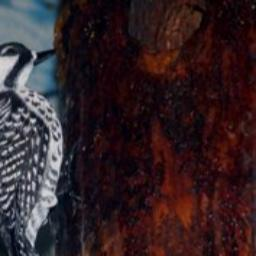Woodpecker: (0, 33, 85, 256)
